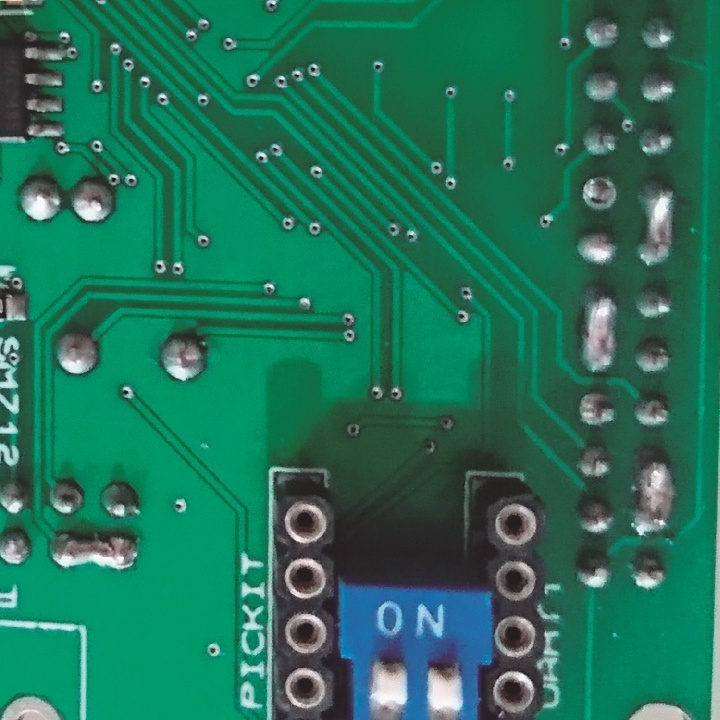F: (579, 175, 619, 215)
P: (47, 528, 139, 578), (579, 283, 619, 378), (635, 452, 674, 540), (642, 182, 674, 269)
